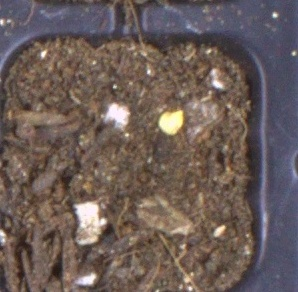chilli seed: (157, 109, 184, 136)
